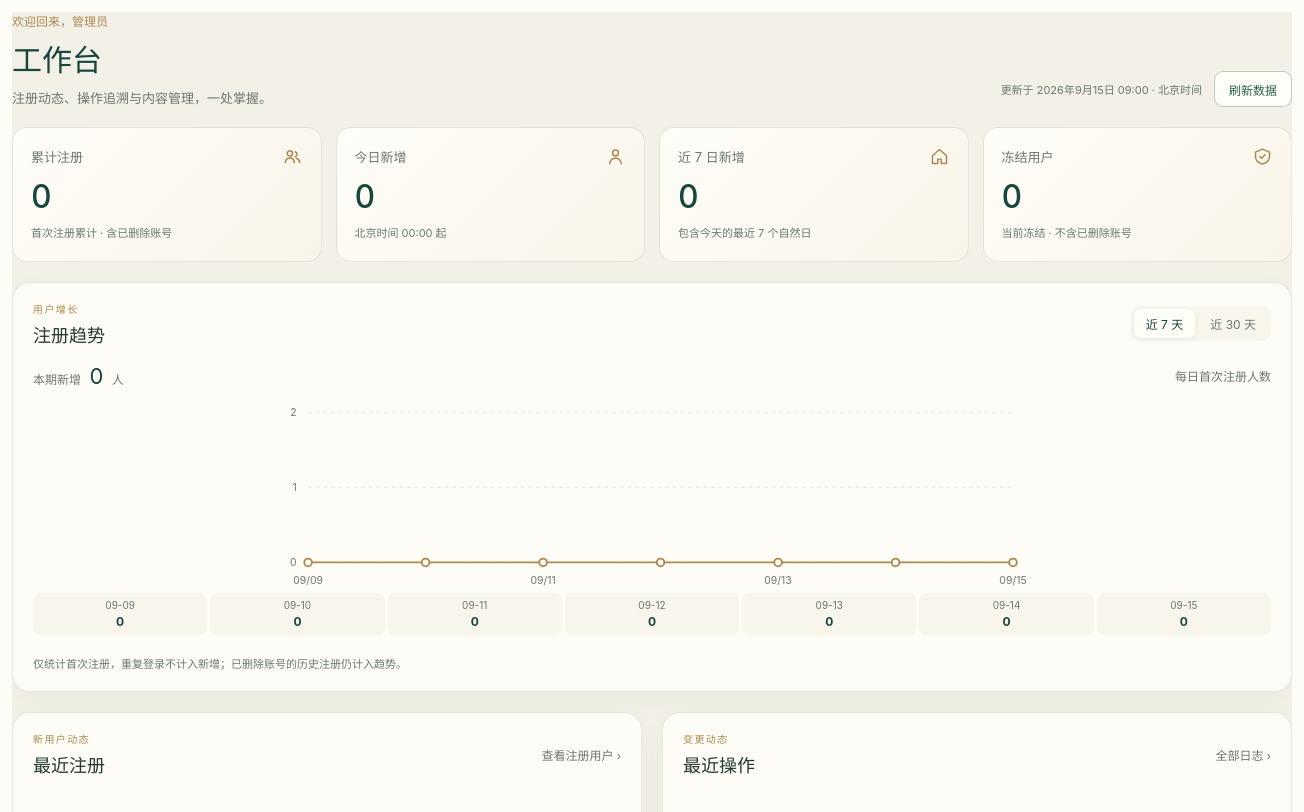
Scenario: DashboardPage › renders genuine empty counts as zero and accessible daily details
Expected: the text "0" is shown 4 times, [31, 177, 52, 216]; [354, 177, 375, 216]; [678, 177, 699, 216]; [1002, 177, 1022, 216]
Click the button named "2026-09-15：新增 0 人" at [1184, 614], box [1097, 593, 1271, 635]
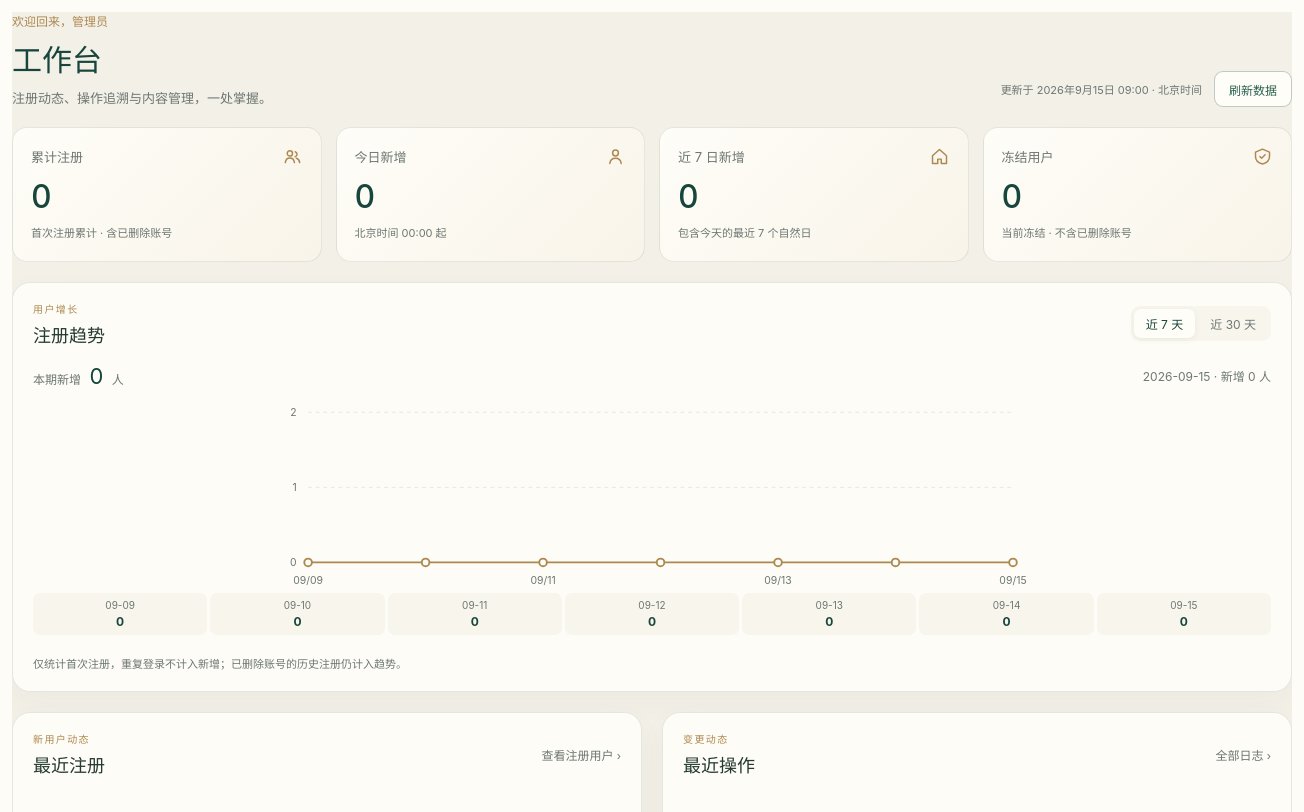
Result: the message reads "2026-09-15 · 新增 0 人" at [1143, 369, 1271, 384]
